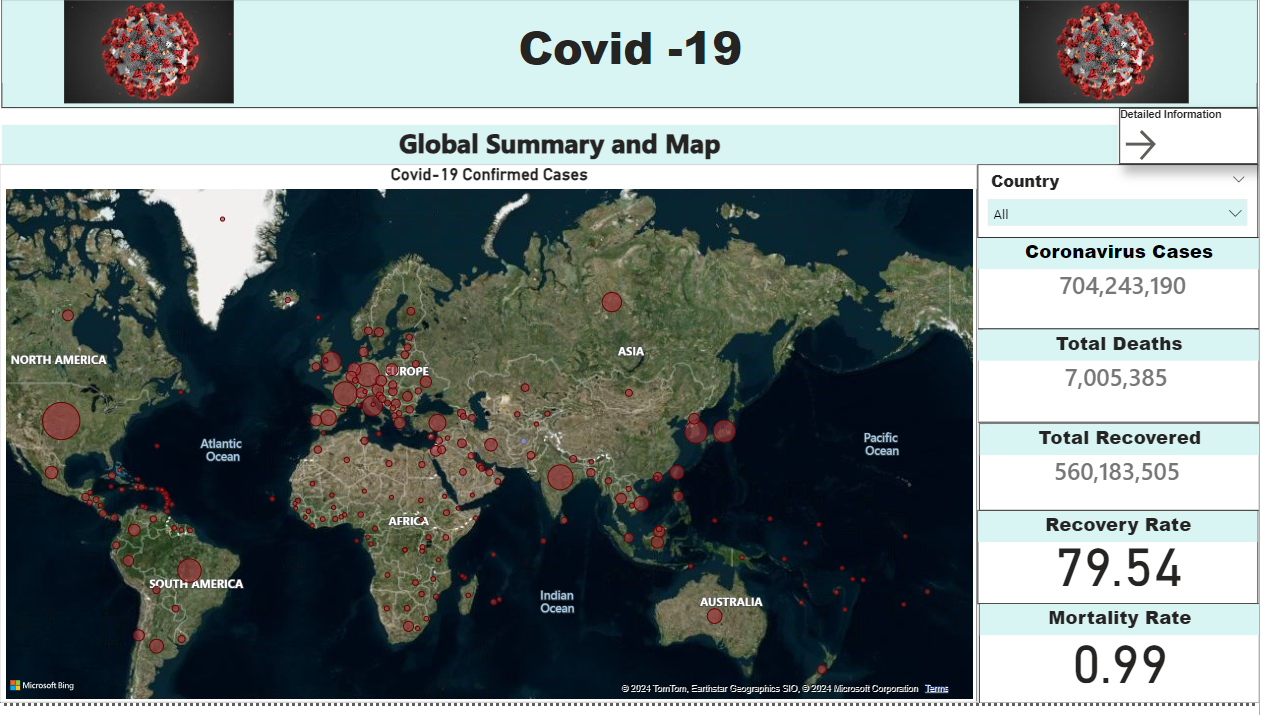

This screenshot's page, from the dashboard's own definition file:
{"tool":"powerbi","page":{"name":"Global Summary","canvas":[1280,720],"ordinal":0},"visuals":[{"type":"PBI_CV_FFFE680D_D220_4F62_B16C_C7B5C5732654","title":"Coronavirus Cases","fields":{"category":["World Data.TotalNo.ofCases"]},"box":[993.3,246.7,286.7,93.3],"z":0},{"type":"PBI_CV_FFFE680D_D220_4F62_B16C_C7B5C5732654","title":"Total Deaths","fields":{"category":["World Data.TotalNo.ofDeath"]},"box":[993.3,340,286.7,95],"z":1000},{"type":"PBI_CV_FFFE680D_D220_4F62_B16C_C7B5C5732654","title":"Total Recovered","fields":{"category":["World Data.TotalNo.ofRecovered"]},"box":[995,435,285,88.3],"z":2000},{"type":"map","title":"Covid-19 Confirmed Cases","fields":{"Size":["Sum(World Data.TotalCases)"],"Category":["World Data.Country,Other"]},"box":[0,171.7,993.3,548.3],"z":3000},{"type":"card","title":"Recovery Rate","fields":{"Values":["World Data.Recovered Rate"]},"box":[993.3,523.3,285,95],"z":4000},{"type":"card","title":"Mortality Rate","fields":{"Values":["World Data.Mortality Rate"]},"box":[995,618.3,285,101.7],"z":5000},{"type":"slicer","fields":{"Values":["World Data.Country,Other"]},"box":[993.3,171.7,285,75],"z":6000},{"type":"textbox","title":"Global Summary and Map","box":[1.6,131.8,1134.7,40.3],"z":7000},{"type":"textbox","title":"Covid -19","box":[1.7,5,1276.7,110],"z":8000},{"type":"image","box":[965,0,313.3,115],"z":9000},{"type":"image","box":[1.7,0,300,115],"z":10000},{"type":"actionButton","title":"Detailed Information","box":[1137.8,114.7,141.1,57.4],"z":10001}]}

Visuals, with their boxes in screenshot pixels (x1, y1, x2, y2), scaled from the page's 1280x720 canvas onto the 1261x715 screenshot:
"Coronavirus Cases" PBI_CV_FFFE680D_D220_4F62_B16C_C7B5C5732654: box(979, 245, 1260, 338)
"Total Deaths" PBI_CV_FFFE680D_D220_4F62_B16C_C7B5C5732654: box(979, 338, 1260, 432)
"Total Recovered" PBI_CV_FFFE680D_D220_4F62_B16C_C7B5C5732654: box(980, 432, 1260, 520)
"Covid-19 Confirmed Cases" map: box(0, 171, 979, 714)
"Recovery Rate" card: box(979, 520, 1259, 614)
"Mortality Rate" card: box(980, 614, 1260, 714)
slicer - World Data.Country,Other: box(979, 171, 1259, 245)
"Global Summary and Map" textbox: box(2, 131, 1119, 171)
"Covid -19" textbox: box(2, 5, 1259, 114)
image: box(951, 0, 1259, 114)
image: box(2, 0, 297, 114)
"Detailed Information" actionButton: box(1121, 114, 1260, 171)
